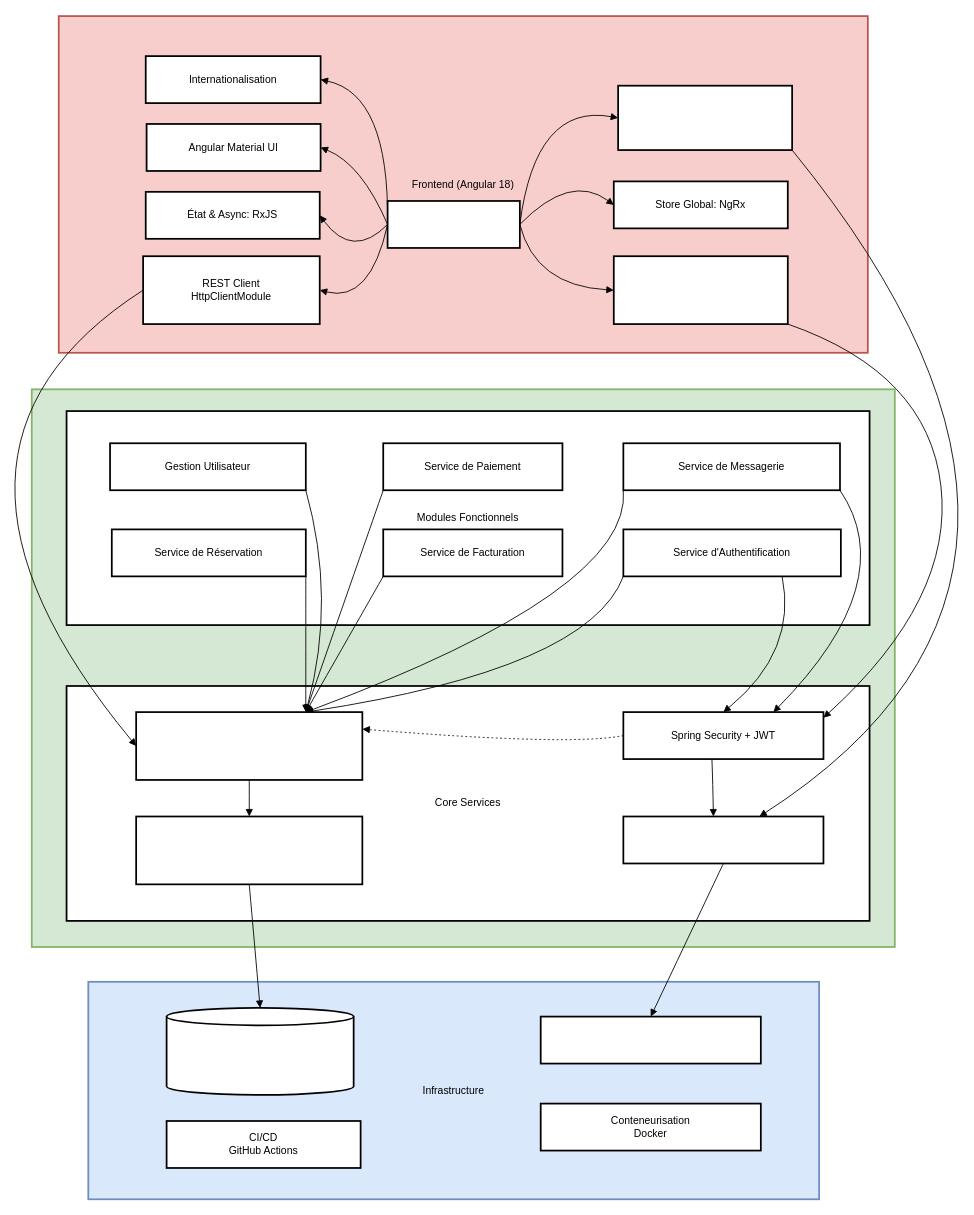
Image size: 974x1215. Some labels were removed from this diagram. Here are the shapes that lost their labels. From the top down, the box of each, then its label:
(617, 84, 793, 151): WebSocket Client SockJS
(386, 200, 520, 248): Angular Core
(612, 255, 788, 325): Auth Client JWT Management
(30, 388, 895, 947): Backend (Spring Boot 3.x)
(135, 711, 363, 780): REST Controllers Spring Web MVC
(135, 815, 363, 885): Persistance Spring Data JPA
(622, 815, 824, 864): WebSocket Server STOMP
(165, 1007, 354, 1095): Base de données MySQL/MariaDB
(539, 1015, 761, 1064): Message Broker RabbitMQ
